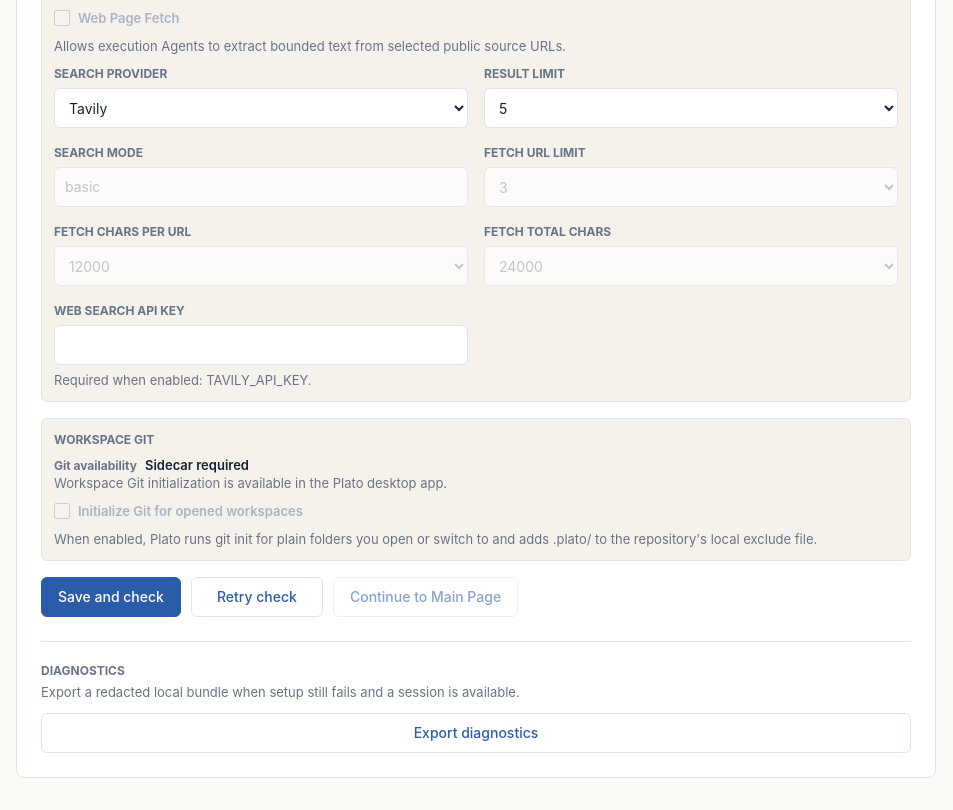
Test: SettingsRoute › exports diagnostics when a sidecar session is available
(page scrolled)
Click the button "Export diagnostics": point(476, 733) [41,713,911,753]
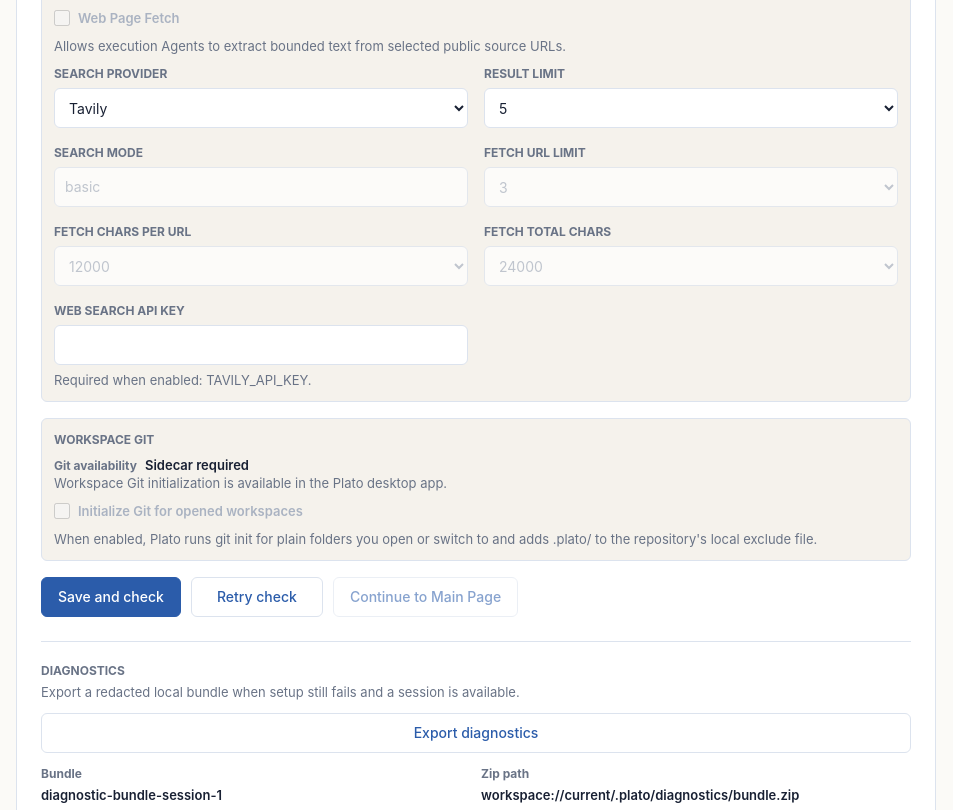
Now the text "diagnostic-bundle-session-1" is shown, box [41,787,222,803]
